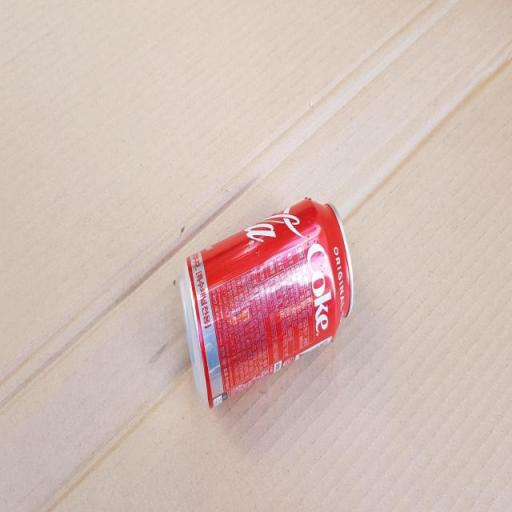metal: (155, 175, 373, 425)
